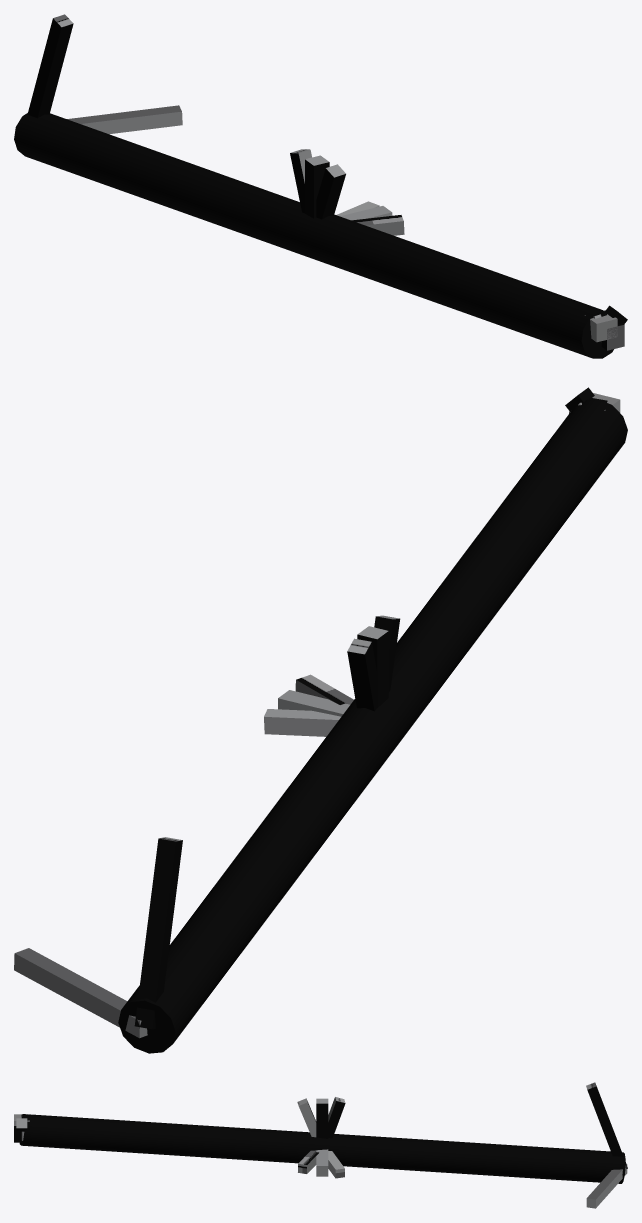
3 renders of one model, top to bottom at view 1: azimuth 30°, elevation 25°; view 2: azimuth 150°, elevation 25°; view 3: azimuth 270°, elevation 25°, orthographic. The views are drawn at different scales.
Size of the model in its own units: 0.4572 by 0.4572 by 2.5.
